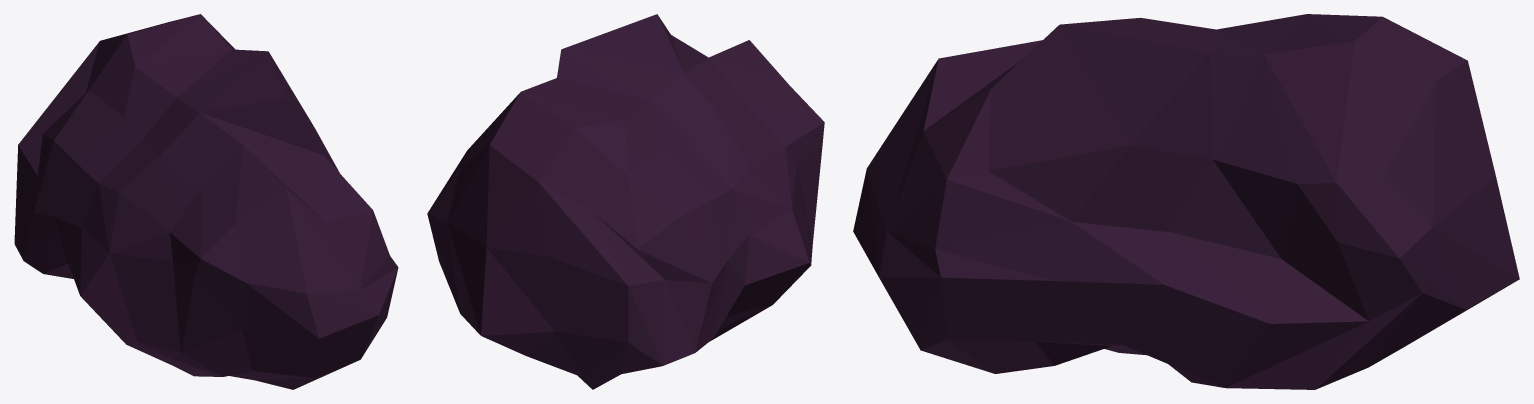
Rendered from PROP_Rock 2.FBX.
3 views of the same model, side by side, from view 1: azimuth 30°, elevation 25°; view 2: azimuth 150°, elevation 25°; view 3: azimuth 270°, elevation 25° (orthographic). The views are drawn at different scales.
Visible parts, largest first — view 1: rock2; view 2: rock2; view 3: rock2.
Part boxes in pixels (x1=…): rock2: x1=14, y1=14, x2=398, y2=389; rock2: x1=427, y1=14, x2=824, y2=389; rock2: x1=853, y1=14, x2=1519, y2=389.
Bounding box in the file's own units: 1.42 × 1.39 × 2.21.
